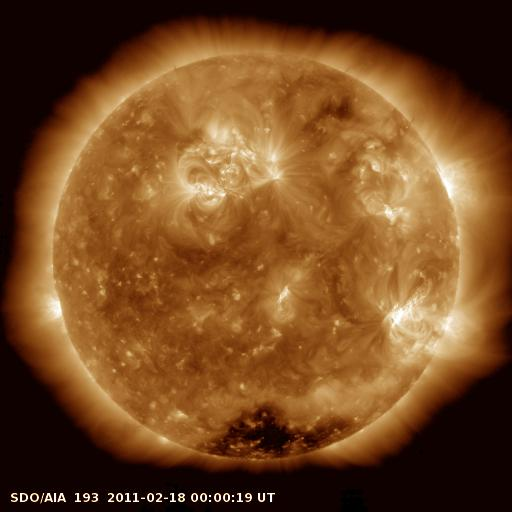coronal_hole: (190, 395, 359, 470)
